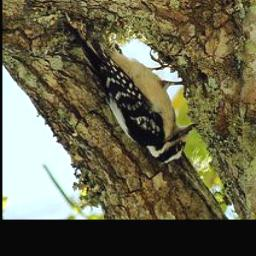Woodpecker: (62, 16, 199, 172)
